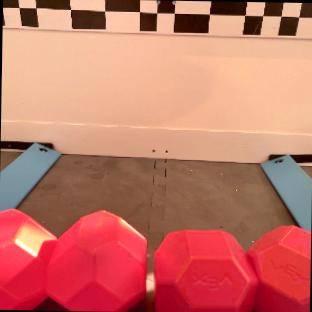V5_RED: (0, 208, 145, 309), (155, 225, 310, 312)
